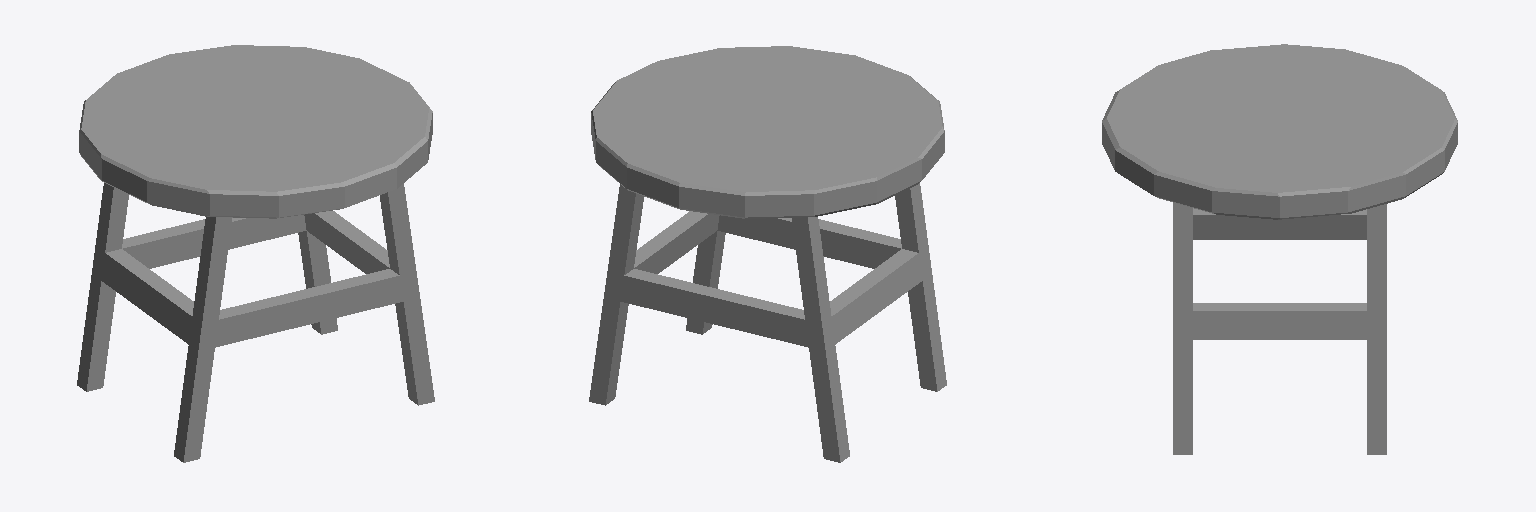
Rendered from stool-round.obj.
3 renders of one model, left to right at view 1: azimuth 30°, elevation 25°; view 2: azimuth 150°, elevation 25°; view 3: azimuth 270°, elevation 25°, orthographic.
Visible parts, largest first — view 1: stool_Cube; view 2: stool_Cube; view 3: stool_Cube.
Part boxes in pixels (bbox=[...]): stool_Cube: bbox=[77, 45, 434, 462]; stool_Cube: bbox=[589, 46, 946, 462]; stool_Cube: bbox=[1102, 44, 1457, 454].
Size of the model in its own units: 0.6 by 0.51 by 0.6.